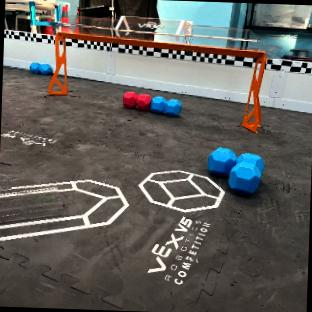Goal: (49, 16, 283, 132)
V5_BLUE: (208, 147, 265, 195), (151, 97, 181, 116), (30, 64, 52, 73)
V5_RED: (122, 92, 152, 111)
